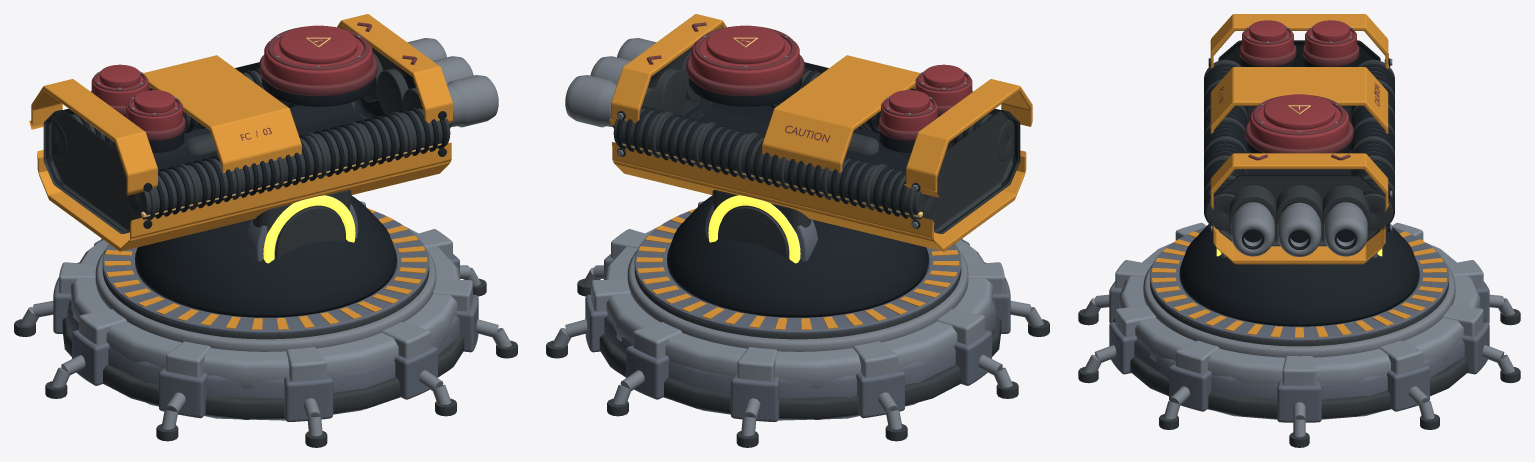
The model's file is turret.glb.
3 views of the same model, side by side, from view 1: azimuth 30°, elevation 25°; view 2: azimuth 150°, elevation 25°; view 3: azimuth 270°, elevation 25° (orthographic). The views are drawn at different scales.
Parts seen in each view (by area): view 1: FC_pitch_Saffron_enamel, FC_base_Slate_housing, FC_head_Recess, FC_base_Chamfered_armor, FC_pitch_Carbon_steel, FC_pitch_Recess, FC_base_Carbon_steel, FC_base_Titanium, FC_pitch_Oxide_red, FC_pitch_Dark_lacquer, FC_head_Carbon_steel, FC_base_Saffron_enamel (+5 smaller); view 2: FC_pitch_Saffron_enamel, FC_base_Slate_housing, FC_head_Recess, FC_base_Chamfered_armor, FC_pitch_Carbon_steel, FC_pitch_Recess, FC_base_Carbon_steel, FC_base_Titanium, FC_pitch_Oxide_red, FC_pitch_Dark_lacquer, FC_head_Carbon_steel, FC_base_Saffron_enamel (+5 smaller); view 3: FC_base_Slate_housing, FC_base_Chamfered_armor, FC_pitch_Saffron_enamel, FC_head_Recess, FC_base_Carbon_steel, FC_pitch_Recess, FC_base_Titanium, FC_pitch_Oxide_red, FC_pitch_Carbon_steel, FC_slide_Titanium, FC_pitch_Dark_lacquer, FC_base_Saffron_enamel (+2 smaller).
Boxes of the visible parts, <box> form: FC_pitch_Saffron_enamel: <box>29,14,452,251</box>; FC_base_Slate_housing: <box>53,211,478,421</box>; FC_head_Recess: <box>135,195,396,317</box>; FC_base_Chamfered_armor: <box>59,201,472,388</box>; FC_pitch_Carbon_steel: <box>43,47,450,234</box>; FC_pitch_Recess: <box>46,62,447,232</box>; FC_base_Carbon_steel: <box>14,261,517,447</box>; FC_base_Titanium: <box>20,250,511,436</box>; FC_pitch_Oxide_red: <box>91,25,372,131</box>; FC_pitch_Dark_lacquer: <box>91,22,417,140</box>; FC_head_Carbon_steel: <box>185,133,351,258</box>; FC_base_Saffron_enamel: <box>104,208,427,330</box>; FC_pitch_Saffron_enamel: <box>609,14,1032,251</box>; FC_base_Slate_housing: <box>585,211,1010,421</box>; FC_head_Recess: <box>667,195,928,317</box>; FC_base_Chamfered_armor: <box>591,201,1004,388</box>; FC_pitch_Carbon_steel: <box>613,47,1020,234</box>; FC_pitch_Recess: <box>616,49,1017,232</box>; FC_base_Carbon_steel: <box>546,261,1049,447</box>; FC_base_Titanium: <box>552,250,1043,436</box>; FC_pitch_Oxide_red: <box>691,25,972,131</box>; FC_pitch_Dark_lacquer: <box>646,22,972,142</box>; FC_head_Carbon_steel: <box>712,133,878,258</box>; FC_base_Saffron_enamel: <box>636,208,959,330</box>; FC_base_Slate_housing: <box>1109,227,1489,422</box>; FC_base_Chamfered_armor: <box>1115,222,1483,385</box>; FC_pitch_Saffron_enamel: <box>1210,14,1388,264</box>; FC_head_Recess: <box>1179,224,1419,326</box>; FC_base_Carbon_steel: <box>1078,275,1520,447</box>; FC_pitch_Recess: <box>1204,42,1394,245</box>; FC_base_Titanium: <box>1084,264,1514,437</box>; FC_pitch_Oxide_red: <box>1242,20,1356,148</box>; FC_pitch_Carbon_steel: <box>1204,40,1394,246</box>; FC_slide_Titanium: <box>1231,202,1367,256</box>; FC_pitch_Dark_lacquer: <box>1219,26,1379,160</box>; FC_base_Saffron_enamel: <box>1152,226,1446,337</box>.
Size of the model in its own units: 3.6 by 2.27 by 3.43.
